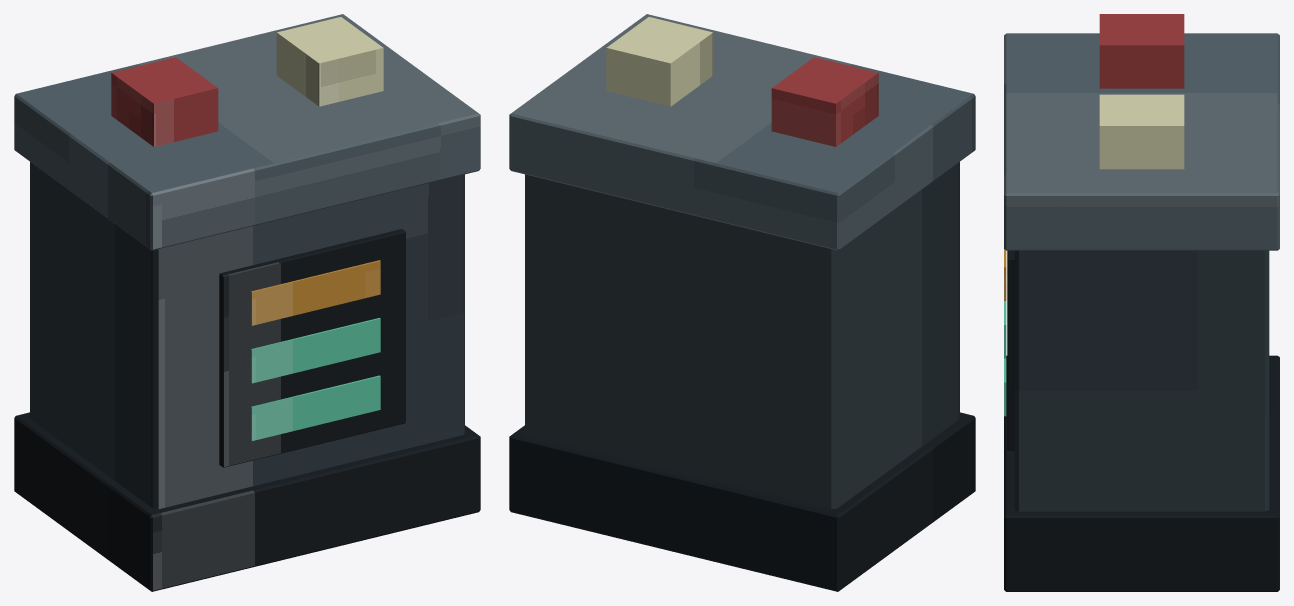
Rendered from battery.glb.
The picture shows the model from 3 angles, left to right: view 1: azimuth 30°, elevation 25°; view 2: azimuth 150°, elevation 25°; view 3: azimuth 270°, elevation 25°; orthographic projection.
Parts seen in each view (by area): view 1: BatteryBody, TopCap, BottomCap, ChargeRecess, NegativeTerminal, PositiveTerminal, ChargeBar_2, ChargeBar_3, ChargeBar_1; view 2: BatteryBody, TopCap, BottomCap, NegativeTerminal, PositiveTerminal; view 3: BatteryBody, TopCap, BottomCap, NegativeTerminal, PositiveTerminal, ChargeRecess.
Boxes of the visible parts, bbox=[...] form: BatteryBody: bbox=[30, 162, 464, 509]; TopCap: bbox=[14, 14, 480, 250]; BottomCap: bbox=[14, 412, 480, 591]; ChargeRecess: bbox=[219, 229, 405, 467]; NegativeTerminal: bbox=[276, 17, 383, 106]; PositiveTerminal: bbox=[111, 57, 218, 146]; ChargeBar_2: bbox=[251, 318, 380, 383]; ChargeBar_3: bbox=[251, 260, 380, 325]; ChargeBar_1: bbox=[251, 375, 380, 440]; BatteryBody: bbox=[525, 162, 959, 509]; TopCap: bbox=[509, 14, 975, 250]; BottomCap: bbox=[509, 412, 975, 591]; NegativeTerminal: bbox=[606, 17, 713, 106]; PositiveTerminal: bbox=[771, 57, 878, 146]; BatteryBody: bbox=[1014, 250, 1269, 511]; TopCap: bbox=[1004, 33, 1279, 250]; BottomCap: bbox=[1004, 355, 1279, 591]; NegativeTerminal: bbox=[1099, 94, 1184, 169]; PositiveTerminal: bbox=[1099, 14, 1184, 88]; ChargeRecess: bbox=[1007, 250, 1014, 450].
Size of the model in its own units: 0.36 by 0.46 by 0.26.
1 material, 1 textured.
